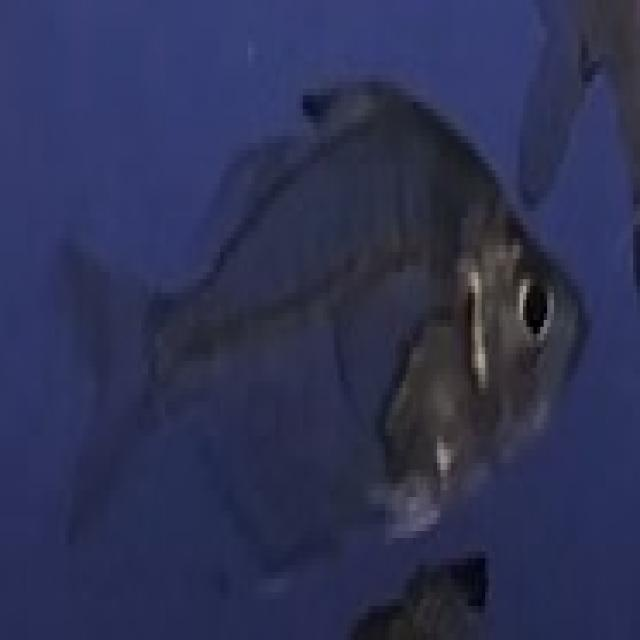Glass-Perchlet: (4, 66, 602, 608)
